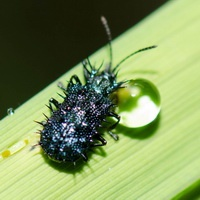insect: (32, 16, 156, 164)
